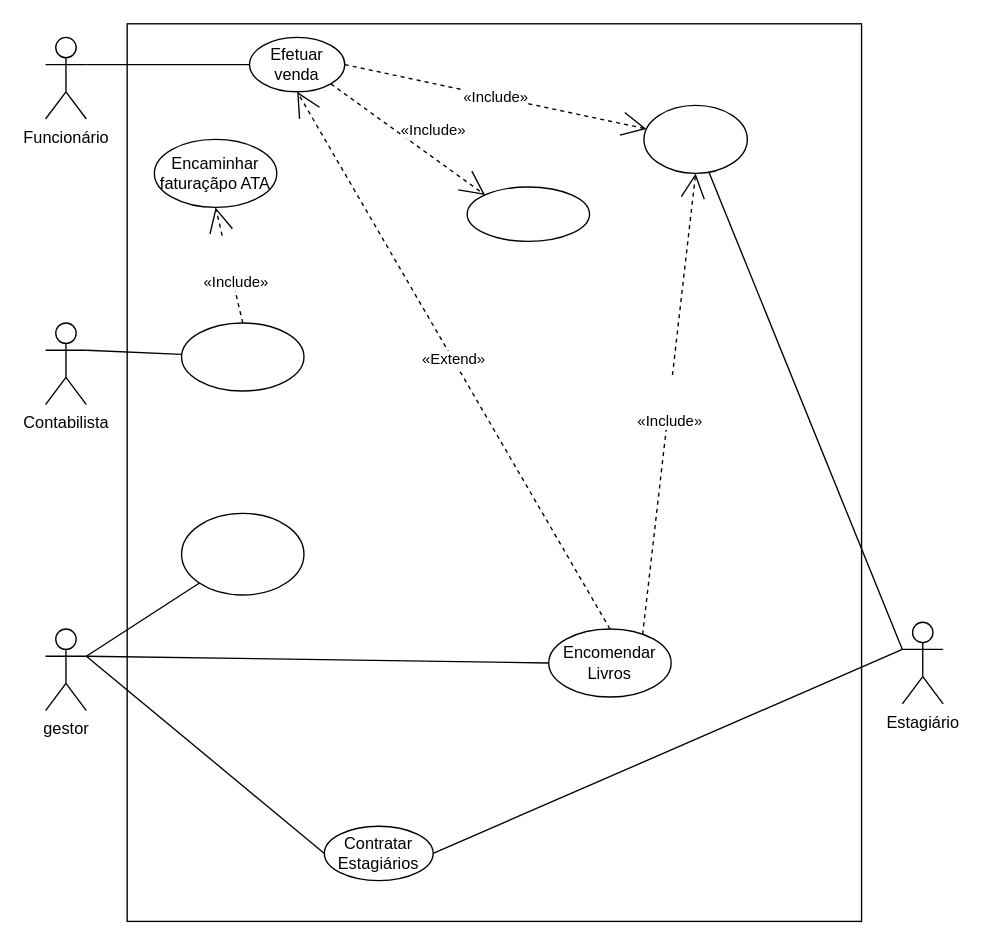
The diagram is 982 pixels wide and 945 high, and some of its shapes have lost their labels. Each missing label, with the centre of its shape:
Atualizar Stock: [695,138]
Efetuar faturação: [242,356]
Preparar faturação: [242,553]
Verificar Stock: [528,213]
